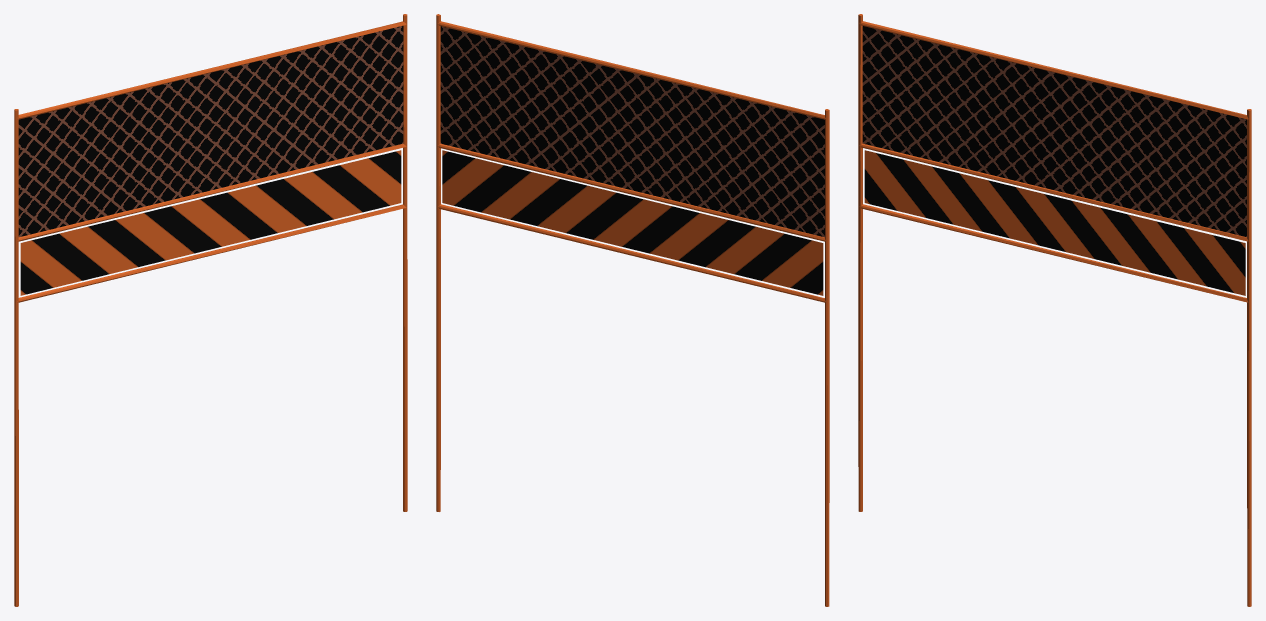
Rendered from fence_long.fbx.
3 views of the same model, side by side, from view 1: azimuth 30°, elevation 25°; view 2: azimuth 150°, elevation 25°; view 3: azimuth 330°, elevation 25° (orthographic).
Parts seen in each view (by area): view 1: 平面.001, 平面, 円柱, 円柱.001, 円柱.004, 円柱.002, 円柱.003; view 2: 平面.001, 平面, 円柱, 円柱.001, 円柱.002, 円柱.004, 円柱.003; view 3: 平面.001, 平面, 円柱.001, 円柱, 円柱.004, 円柱.002, 円柱.003.
Boxes of the visible parts, x1,y1,x2,y2 form: 平面.001: [18, 26, 403, 237]; 平面: [20, 150, 401, 295]; 円柱: [14, 109, 18, 606]; 円柱.001: [403, 14, 407, 511]; 円柱.004: [17, 21, 406, 119]; 円柱.002: [17, 204, 406, 302]; 円柱.003: [17, 143, 406, 241]; 平面.001: [440, 26, 824, 237]; 平面: [442, 150, 823, 295]; 円柱: [825, 109, 829, 606]; 円柱.001: [436, 14, 440, 511]; 円柱.002: [438, 204, 825, 302]; 円柱.004: [438, 21, 825, 119]; 円柱.003: [438, 143, 825, 241]; 平面.001: [862, 26, 1246, 237]; 平面: [864, 150, 1245, 295]; 円柱.001: [1247, 109, 1251, 606]; 円柱: [858, 14, 862, 511]; 円柱.004: [859, 21, 1248, 119]; 円柱.002: [859, 204, 1248, 302]; 円柱.003: [859, 143, 1248, 241].
Bounding box in the file's own units: 1010 × 1220 × 10.12.
